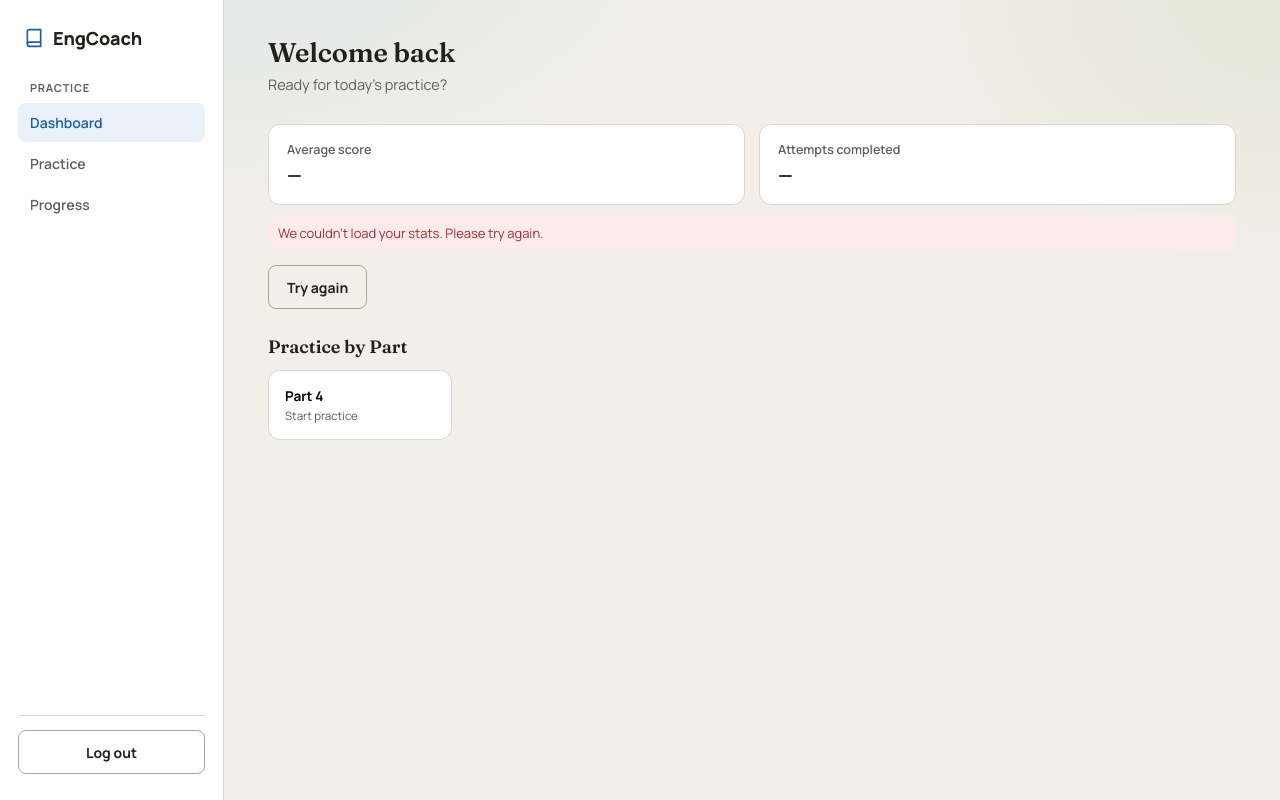
Dashboard — stats from GET /attempts (S10a) › stats failure shows an alert with Try again, and the Part list still works
The width and height of the screenshot is (1280, 800).
Expected: the message shows "couldn't load your stats", [278,224,543,242]
Expected: the text "Part 4" is shown, [285,387,323,405]
Click the button "Try again" at (318, 287), box [268,265,367,309]
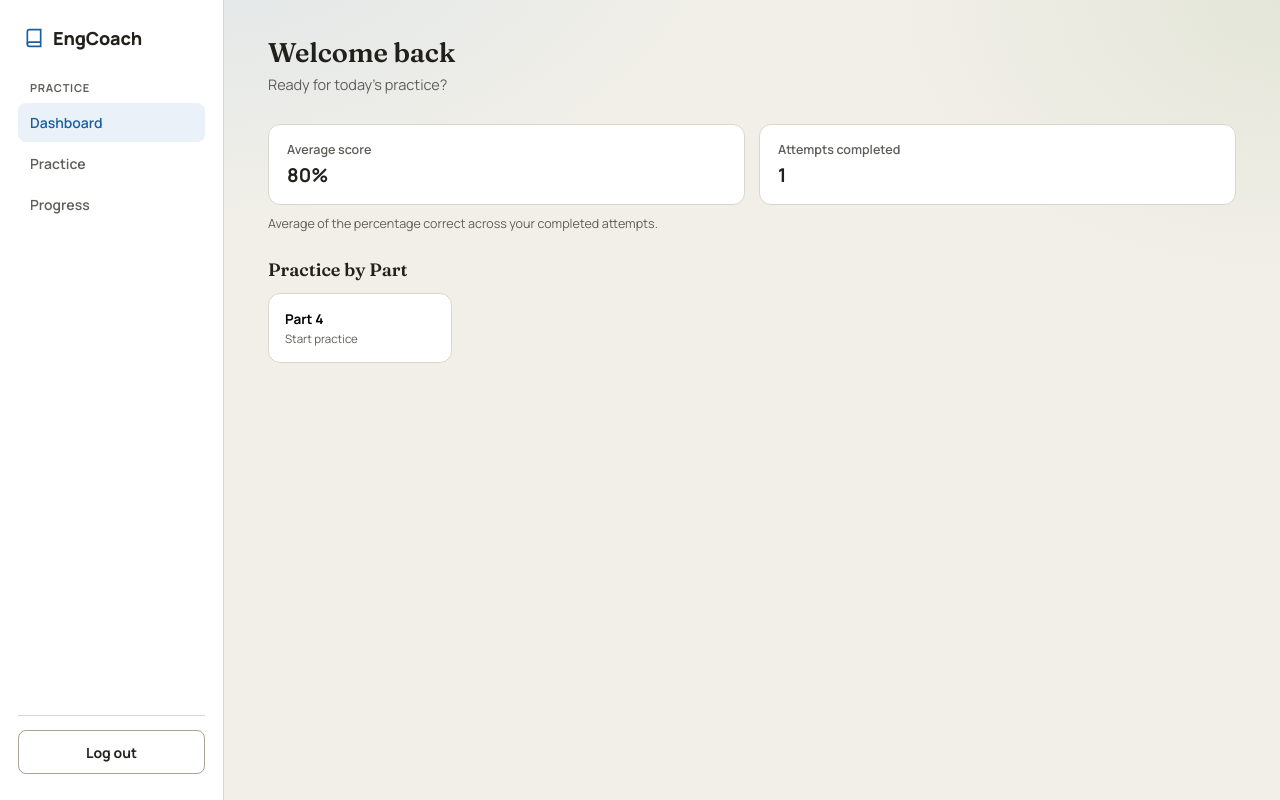
Result: the text "80%" is shown at [287,162,328,188]
Result: the message "We couldn't load your stats. Please try again." is gone
